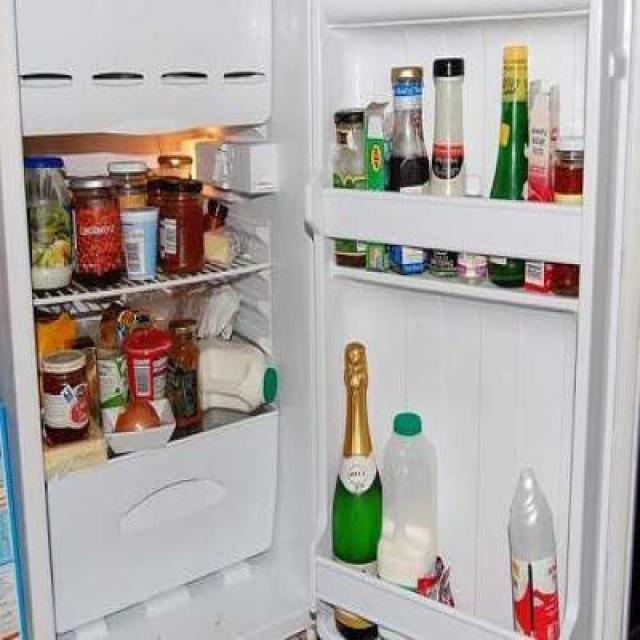refrigerator: (8, 0, 626, 640)
